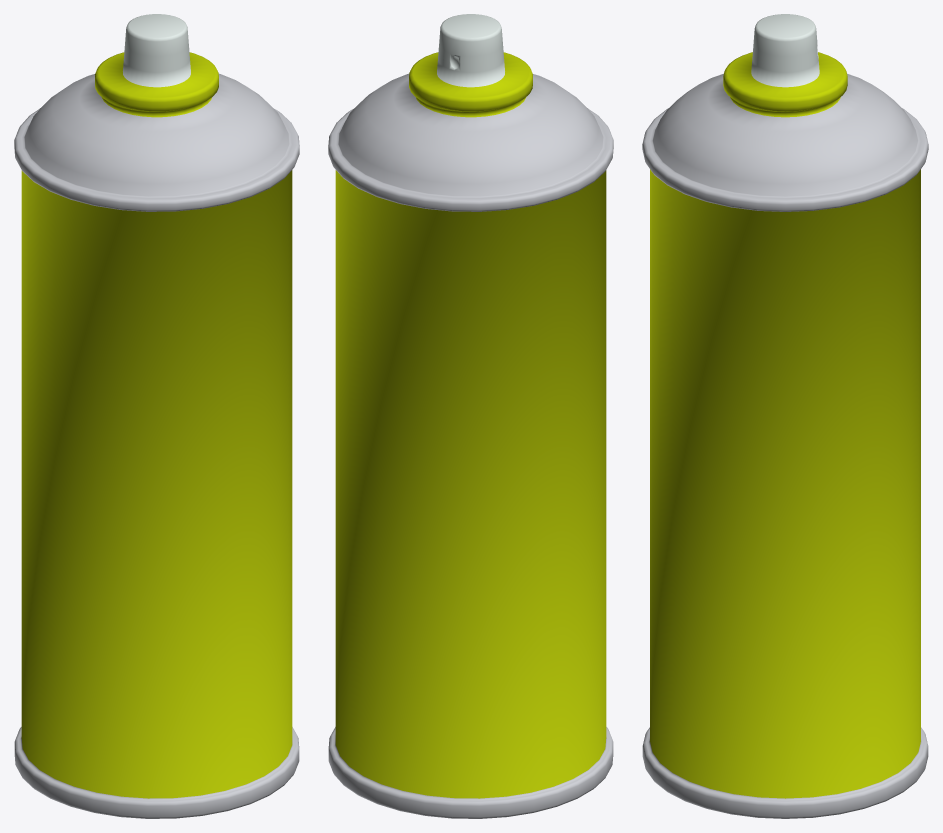
Rendered from SprayCan.fbx.
3 views of the same model, side by side, from view 1: azimuth 30°, elevation 25°; view 2: azimuth 150°, elevation 25°; view 3: azimuth 270°, elevation 25° (orthographic).
Parts seen in each view (by area): view 1: SprayCan; view 2: SprayCan; view 3: SprayCan.
Boxes of the visible parts, left/top/right/bottom form: SprayCan: left=14, top=14, right=299, bottom=818; SprayCan: left=328, top=14, right=613, bottom=818; SprayCan: left=642, top=14, right=928, bottom=818.
Size of the model in its own units: 7.45 by 21.09 by 7.45.
